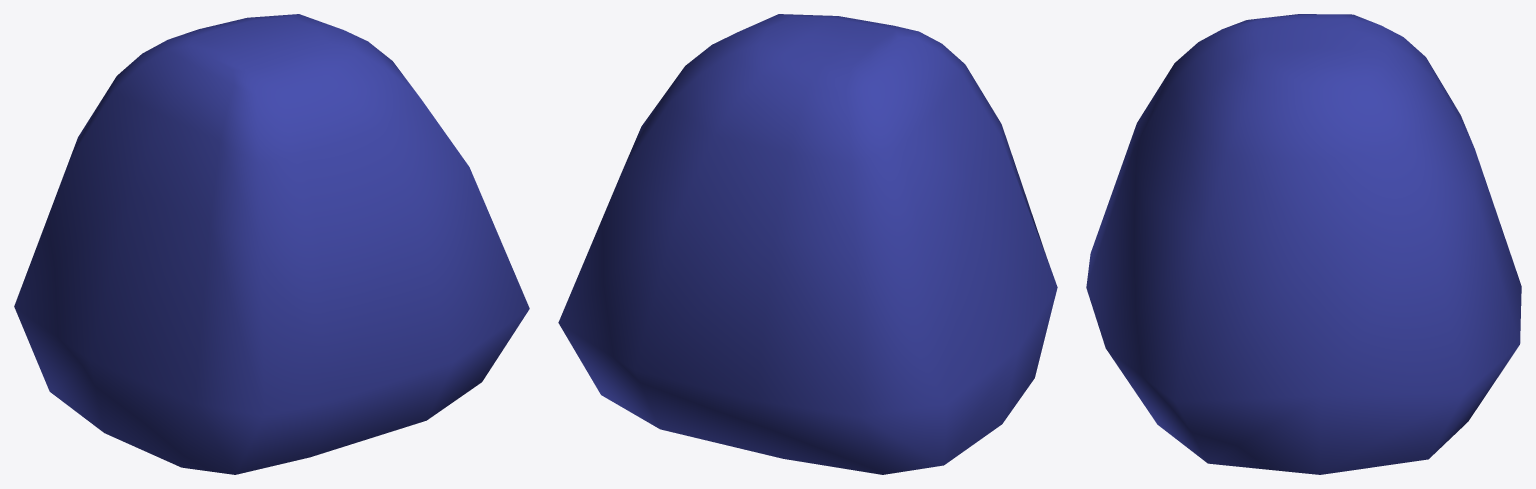
Rendered from Flag_15.fbx.
3 renders of one model, left to right at view 1: azimuth 30°, elevation 25°; view 2: azimuth 150°, elevation 25°; view 3: azimuth 270°, elevation 25°, orthographic. The views are drawn at different scales.
Parts seen in each view (by area): view 1: Flag_15; view 2: Flag_15; view 3: Flag_15.
Boxes of the visible parts, <box> form: Flag_15: <box>14,14,529,474</box>; Flag_15: <box>558,14,1057,474</box>; Flag_15: <box>1086,14,1521,474</box>.
Bounding box in the file's own units: 31.6 × 25.92 × 29.96.
